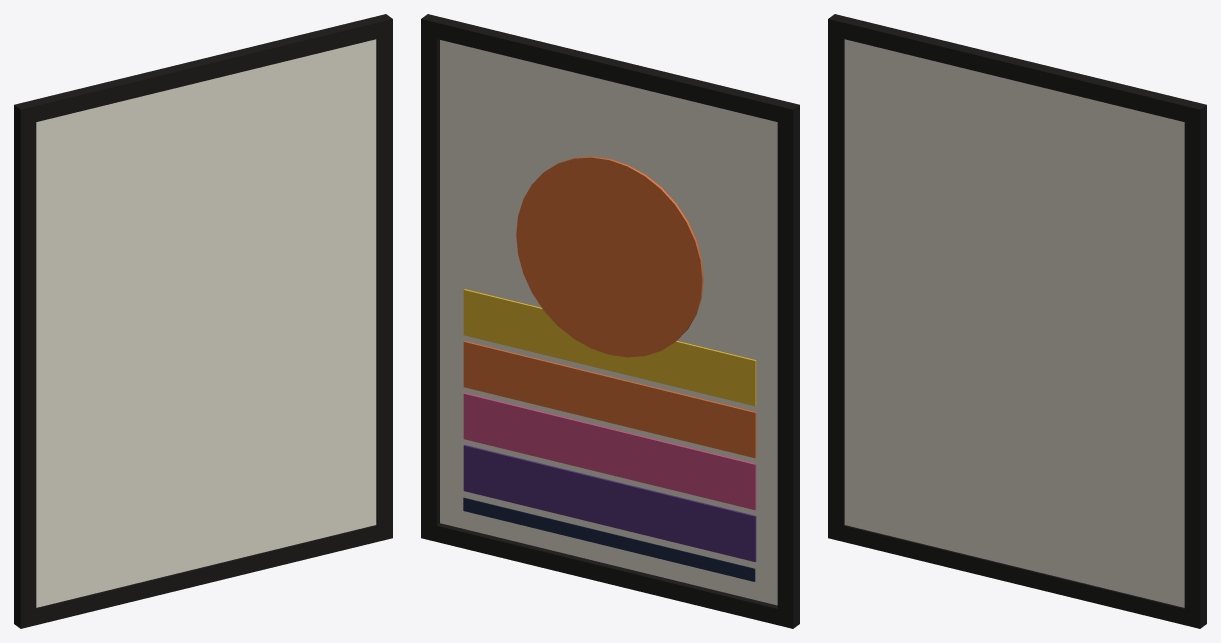
File: SM_80s_Poster_Sunset.glb
3 views of the same model, side by side, from view 1: azimuth 30°, elevation 25°; view 2: azimuth 150°, elevation 25°; view 3: azimuth 330°, elevation 25° (orthographic).
Parts seen in each view (by area): view 1: SM_80s_Poster_Sunset; view 2: SM_80s_Poster_Sunset; view 3: SM_80s_Poster_Sunset.
Part boxes in pixels (box(x1,y1,x2,y2)): SM_80s_Poster_Sunset: box(14, 14, 392, 628); SM_80s_Poster_Sunset: box(421, 14, 799, 628); SM_80s_Poster_Sunset: box(828, 14, 1206, 628).
Bounding box in the file's own units: 0.792 × 1.06 × 0.025.
